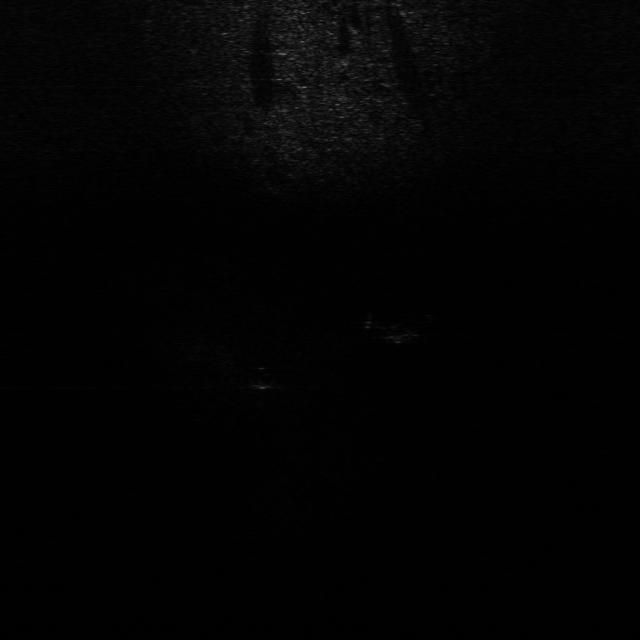ball: (250, 364, 280, 394)
human body: (357, 306, 437, 346)
